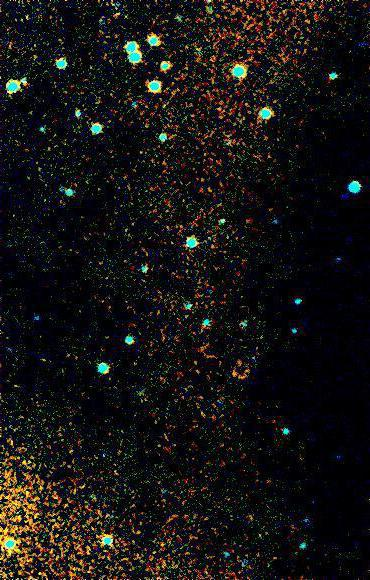star: (220, 359, 250, 389)
